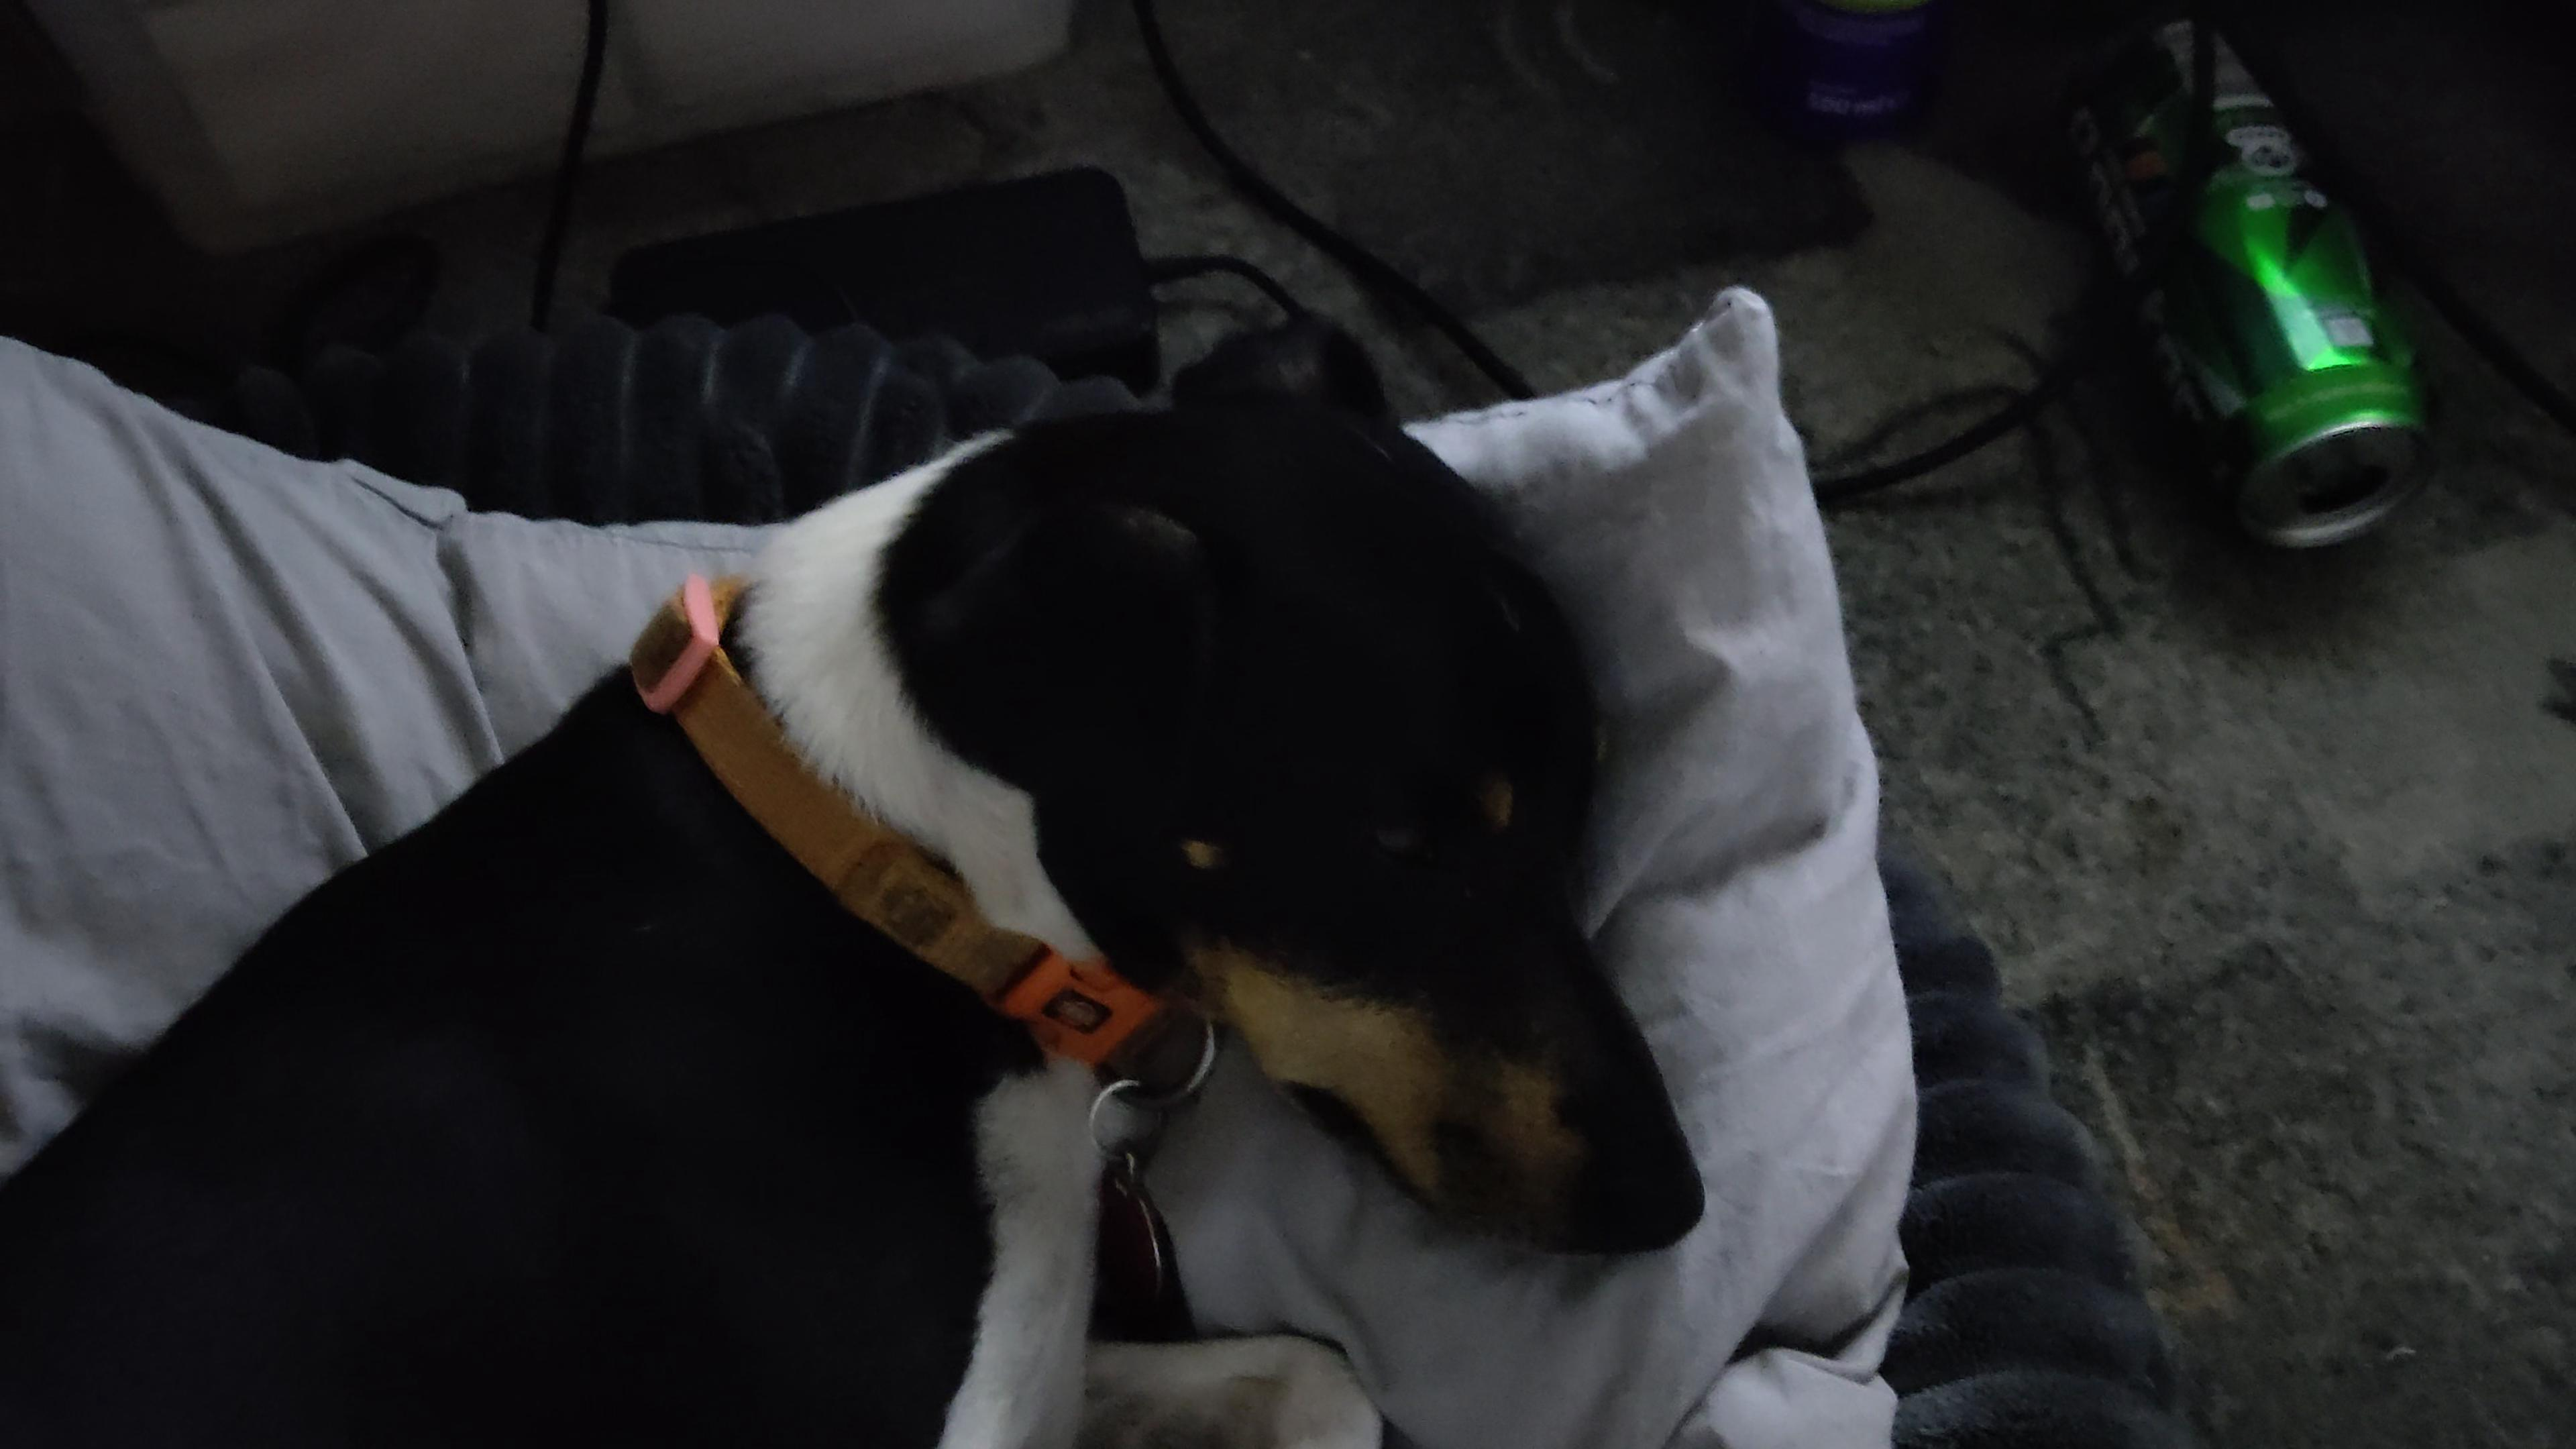Dog: (0, 311, 1720, 1449)
